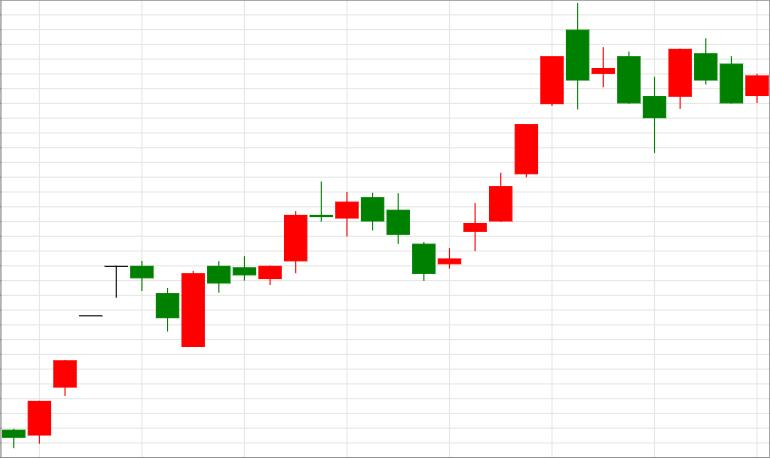bearish_engulfing_fall: (438, 3, 589, 268)
